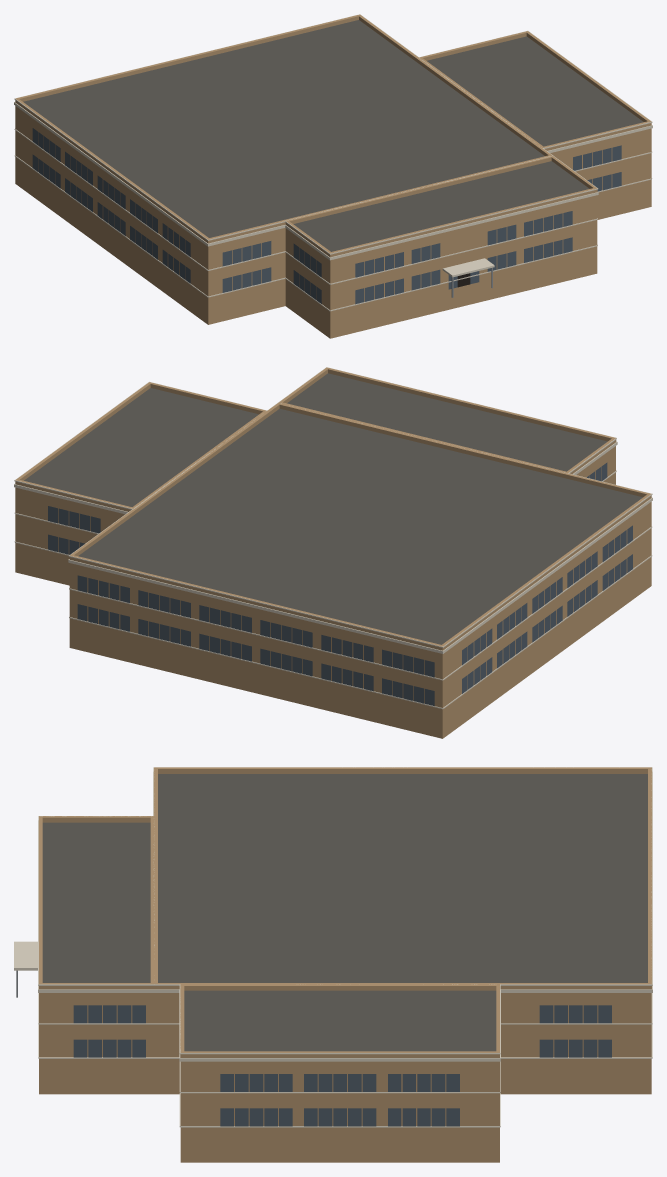
File: arkansas-school-for-the-deaf-and-blind-hall.glb
3 views of the same model, one above another, from view 1: azimuth 30°, elevation 25°; view 2: azimuth 150°, elevation 25°; view 3: azimuth 270°, elevation 25° (orthographic). The views are drawn at different scales.
Parts seen in each view (by area): view 1: arkansas_school_for_the_deaf_and_blind_hall; view 2: arkansas_school_for_the_deaf_and_blind_hall; view 3: arkansas_school_for_the_deaf_and_blind_hall.
Part boxes in pixels (x1,y1,x2,y2): arkansas_school_for_the_deaf_and_blind_hall: (14,14,652,338); arkansas_school_for_the_deaf_and_blind_hall: (14,367,652,738); arkansas_school_for_the_deaf_and_blind_hall: (14,767,652,1162).
Bounding box in the file's own units: 64.74 × 11.57 × 61.02.
